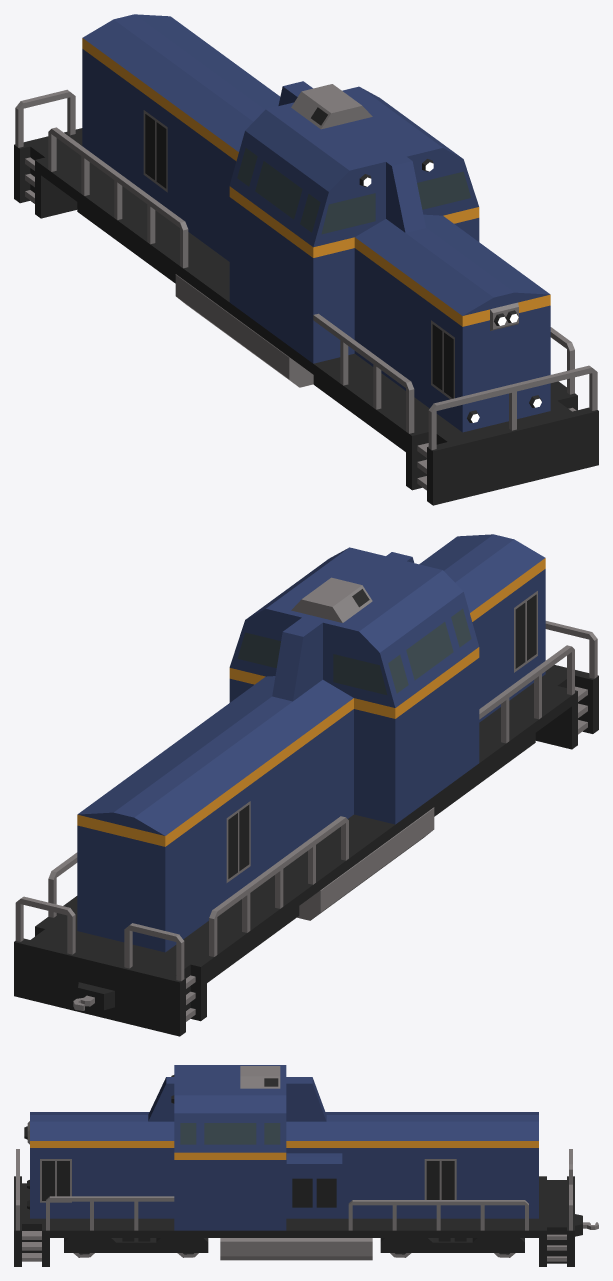
File: vehicles_train-freight.fbx
The picture shows the model from 3 angles, top to bottom: view 1: azimuth 30°, elevation 25°; view 2: azimuth 150°, elevation 25°; view 3: azimuth 270°, elevation 25°; orthographic projection. The views are drawn at different scales.
Visible parts, largest first — view 1: freight_train_base, freight_train_wheel_frame_B, freight_train_wheel_frame_F; view 2: freight_train_base, freight_train_wheel_frame_F, freight_train_wheel_frame_B; view 3: freight_train_base, freight_train_wheel_frame_B, freight_train_wheel_frame_F.
Part boxes in pixels (bbox=[...]): freight_train_base: bbox=[14, 14, 598, 505]; freight_train_wheel_frame_B: bbox=[77, 202, 175, 283]; freight_train_wheel_frame_F: bbox=[313, 375, 405, 451]; freight_train_base: bbox=[14, 534, 598, 1036]; freight_train_wheel_frame_F: bbox=[434, 733, 535, 816]; freight_train_wheel_frame_B: bbox=[207, 906, 299, 982]; freight_train_base: bbox=[14, 1065, 598, 1266]; freight_train_wheel_frame_B: bbox=[380, 1238, 524, 1252]; freight_train_wheel_frame_F: bbox=[64, 1238, 208, 1252].
Bounding box in the file's own units: 43.84 × 65.86 × 200.
